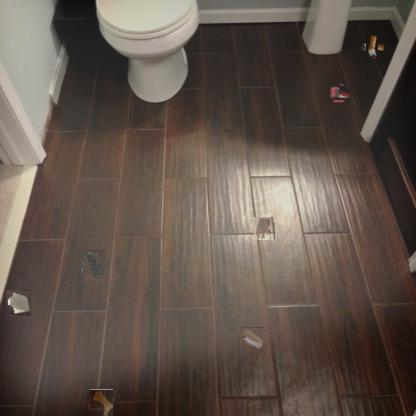dirty: (80, 251, 108, 278), (5, 291, 30, 315), (240, 327, 264, 349), (363, 36, 382, 56), (330, 84, 348, 102)
liquid: (88, 390, 114, 416), (254, 216, 276, 240)
